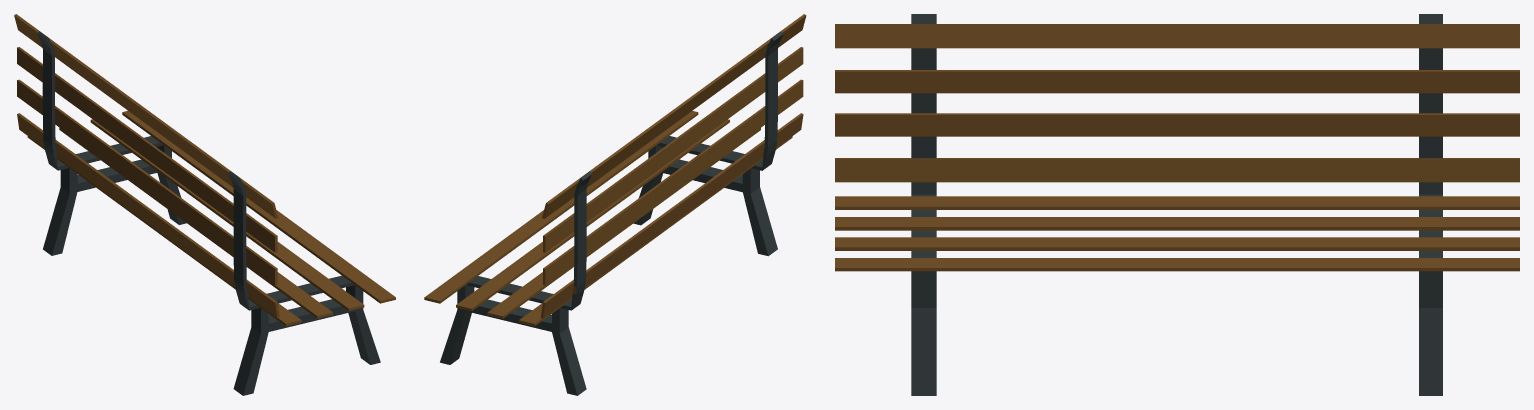
Rendered from BancoDePraça_A01.fbx.
3 views of the same model, side by side, from view 1: azimuth 30°, elevation 25°; view 2: azimuth 150°, elevation 25°; view 3: azimuth 270°, elevation 25° (orthographic). The views are drawn at different scales.
Parts seen in each view (by area): view 1: Cube; view 2: Cube; view 3: Cube.
Boxes of the visible parts, x1,y1,x2,y2 form: Cube: (14, 14, 395, 395); Cube: (424, 14, 806, 395); Cube: (835, 14, 1519, 395).
Bounding box in the file's own units: 62.7 × 91.48 × 195.
